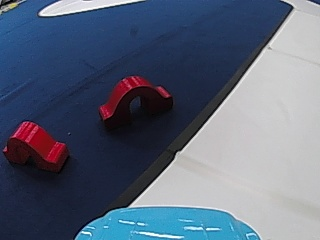bridge: (95, 72, 174, 128), (3, 118, 73, 175)
